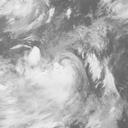cyclone: (22, 22, 99, 103)
